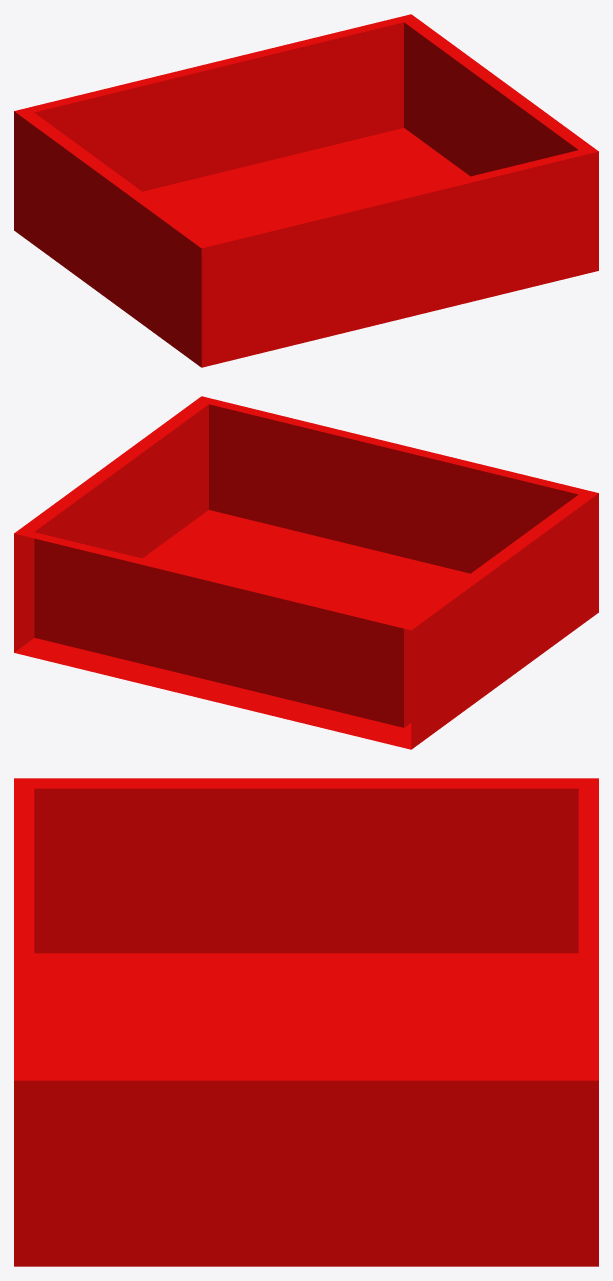
Rendered from WitchShop_Drawer1.fbx.
The picture shows the model from 3 angles, top to bottom: view 1: azimuth 30°, elevation 25°; view 2: azimuth 150°, elevation 25°; view 3: azimuth 270°, elevation 25°; orthographic projection. The views are drawn at different scales.
Parts seen in each view (by area): view 1: Drawer; view 2: Drawer; view 3: Drawer.
Part boxes in pixels (box(x1,y1,x2,y2)): Drawer: box(14, 14, 598, 367); Drawer: box(14, 396, 598, 749); Drawer: box(14, 778, 598, 1266).
Bounding box in the file's own units: 111 × 31.88 × 90.84.
